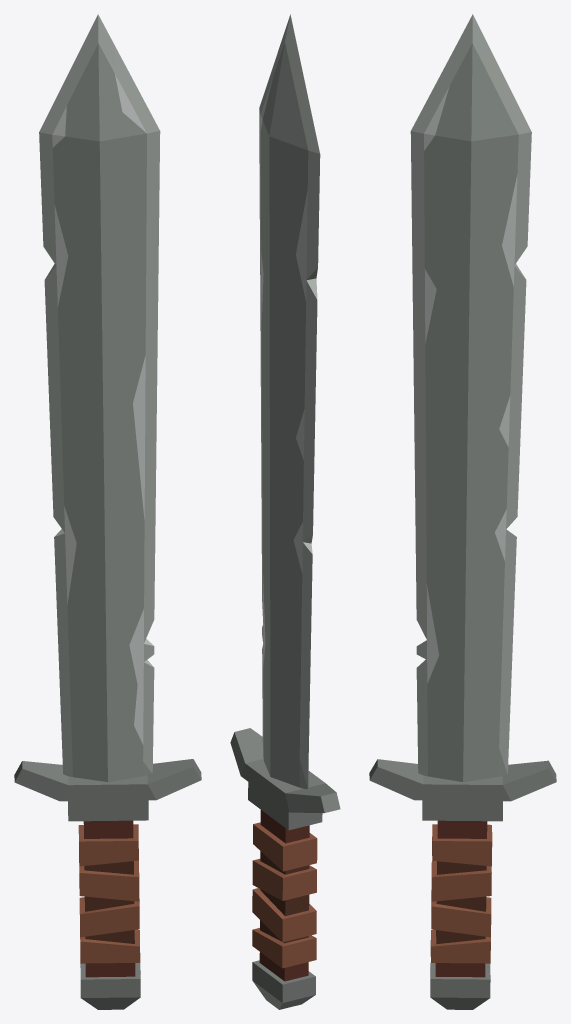
The model's file is SM_Wep_Sword_01.fbx.
The picture shows the model from 3 angles, left to right: view 1: azimuth 90°, elevation 25°; view 2: azimuth 210°, elevation 25°; view 3: azimuth 270°, elevation 25°; orthographic projection.
Parts seen in each view (by area): view 1: SM_Wep_Sword_01; view 2: SM_Wep_Sword_01; view 3: SM_Wep_Sword_01.
Part boxes in pixels (x1=…): SM_Wep_Sword_01: x1=14, y1=14, x2=201, y2=1009; SM_Wep_Sword_01: x1=230, y1=14, x2=340, y2=1009; SM_Wep_Sword_01: x1=369, y1=14, x2=556, y2=1009.
Size of the model in its own units: 0.0448 by 1.04 by 0.1777.
